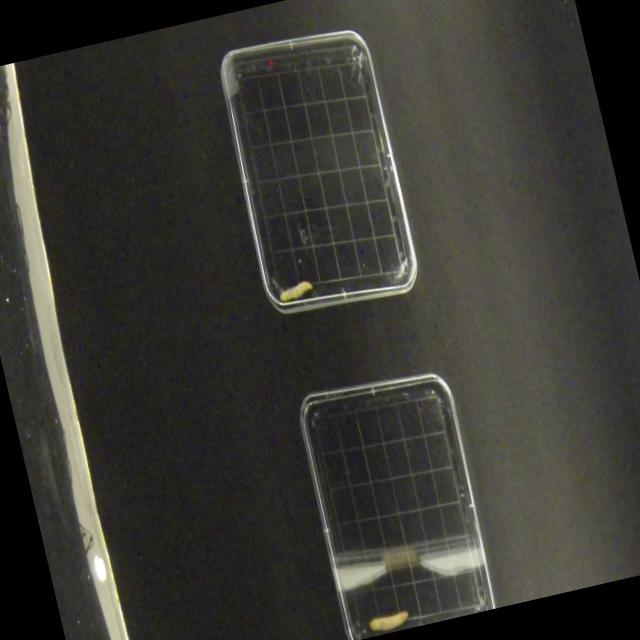larva: (368, 608, 412, 635), (277, 276, 313, 307)
